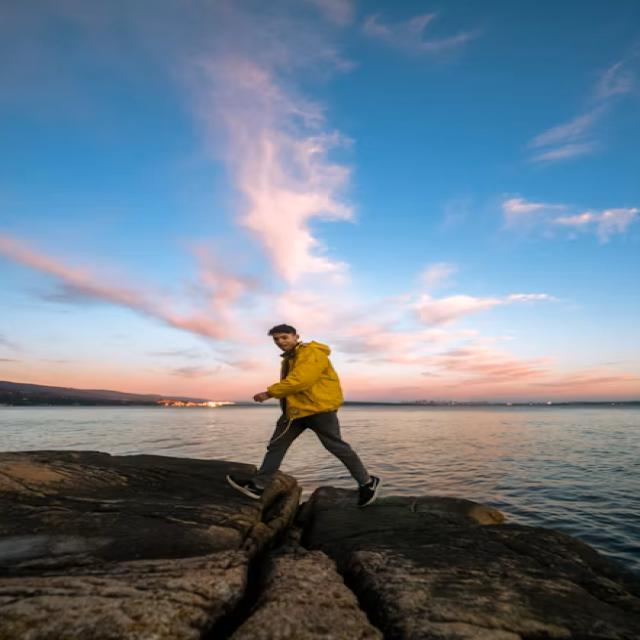Edited images: (235, 308, 392, 510)
